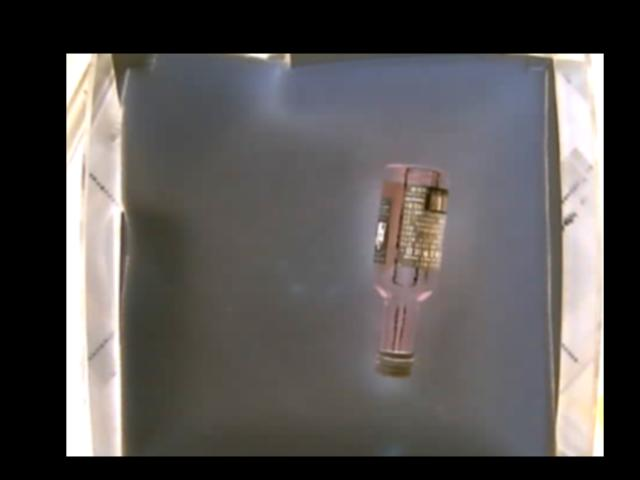Bottle: (370, 161, 450, 378)
